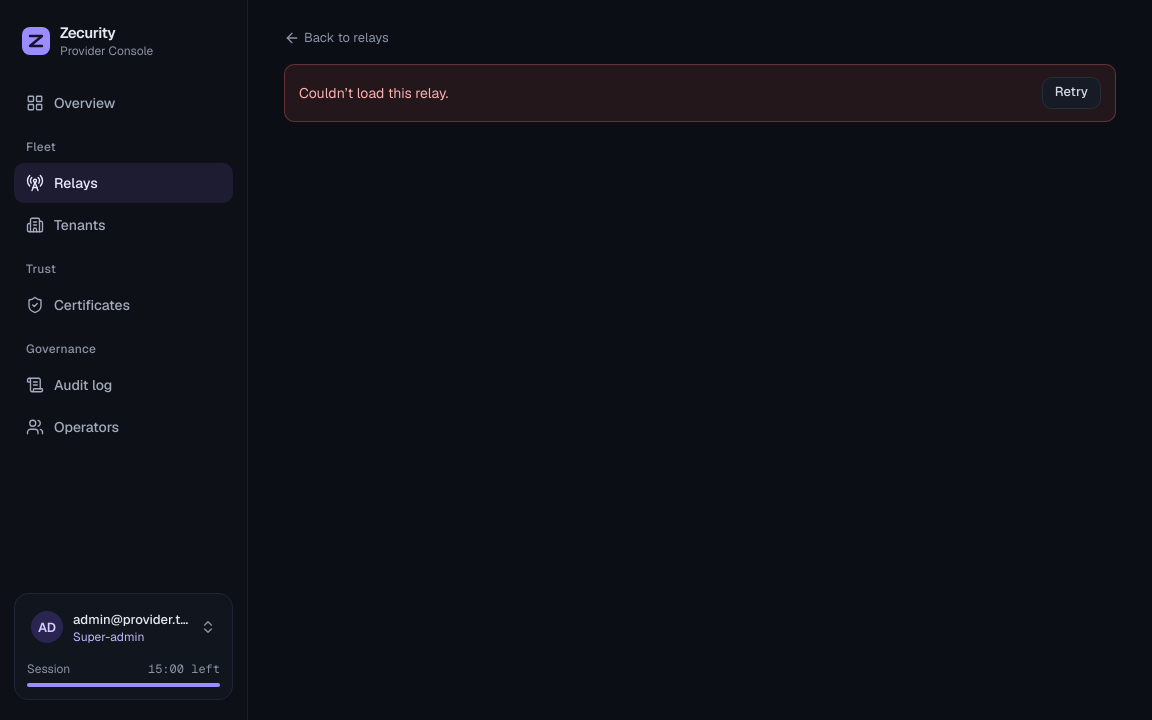
Test: Relay detail › an error offers Retry, which sends exactly one new request
The width and height of the screenshot is (1152, 720).
Expected: the text "Couldn’t load this relay." is shown, [299,82,448,102]
Click the button "Retry": [1071, 92] box [1042,76,1101,108]
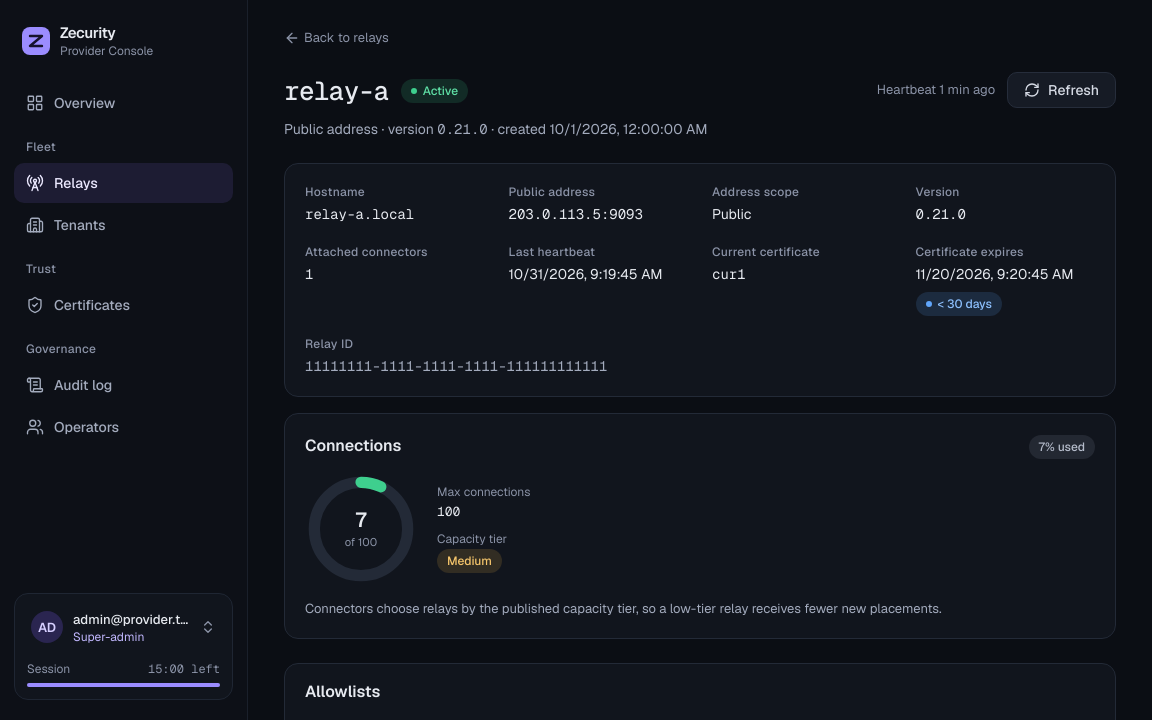
Result: the heading "relay-a" is shown at [284,72,389,110]
